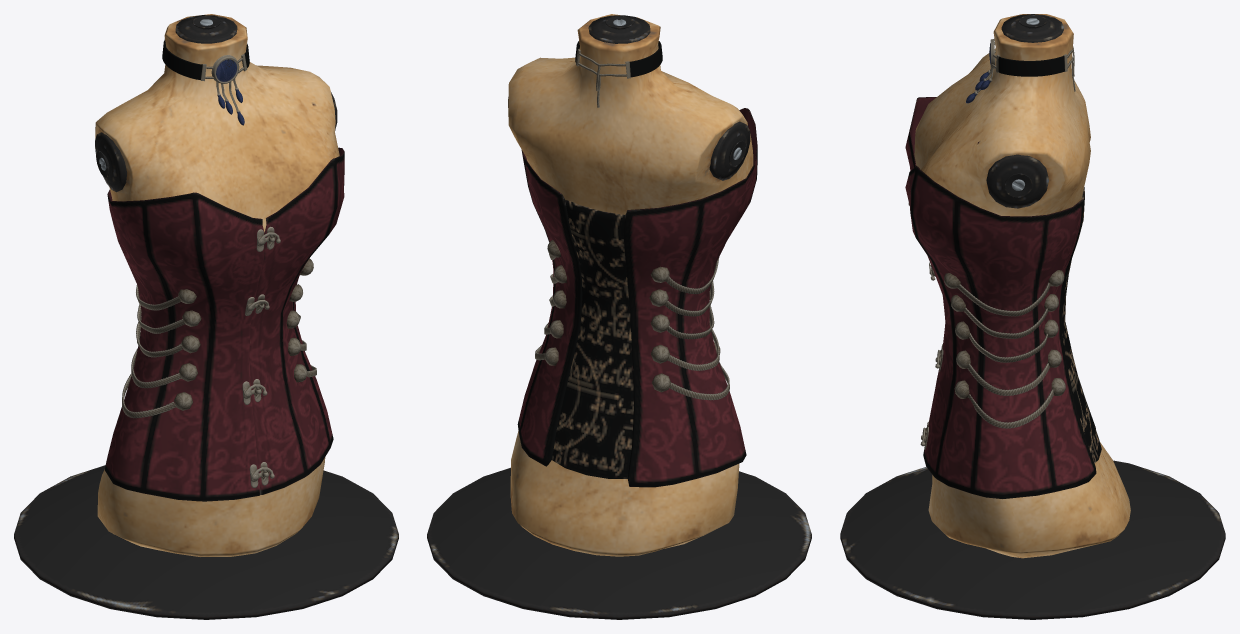
Rendered from Corset.glb.
3 views of the same model, side by side, from view 1: azimuth 30°, elevation 25°; view 2: azimuth 150°, elevation 25°; view 3: azimuth 270°, elevation 25° (orthographic).
Parts seen in each view (by area): view 1: Corset; view 2: Corset; view 3: Corset.
Boxes of the visible parts, x1,y1,x2,y2 form: Corset: (14,14,398,619); Corset: (427,14,811,619); Corset: (840,14,1225,619).
Size of the model in its own units: 0.0389 by 0.0578 by 0.0389.
1 material, 1 textured.
